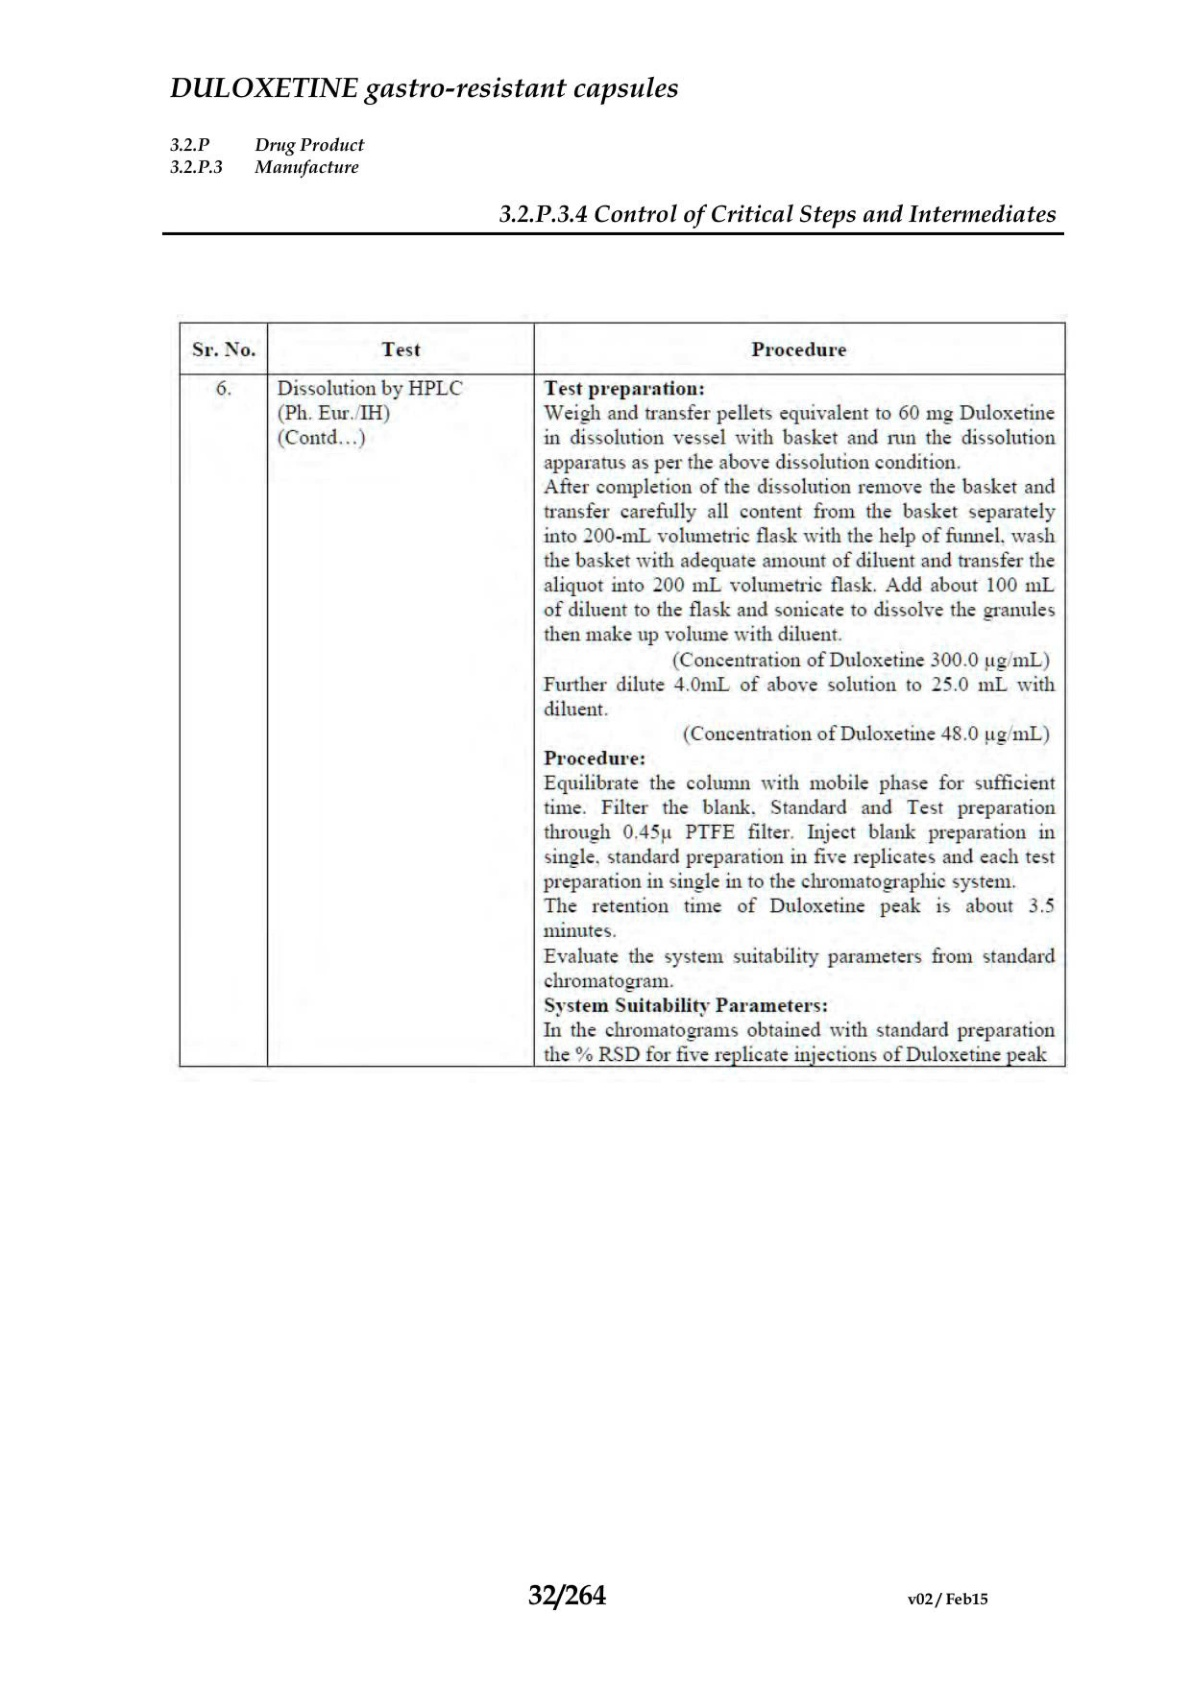full_lined: (178, 320, 1067, 1070)
